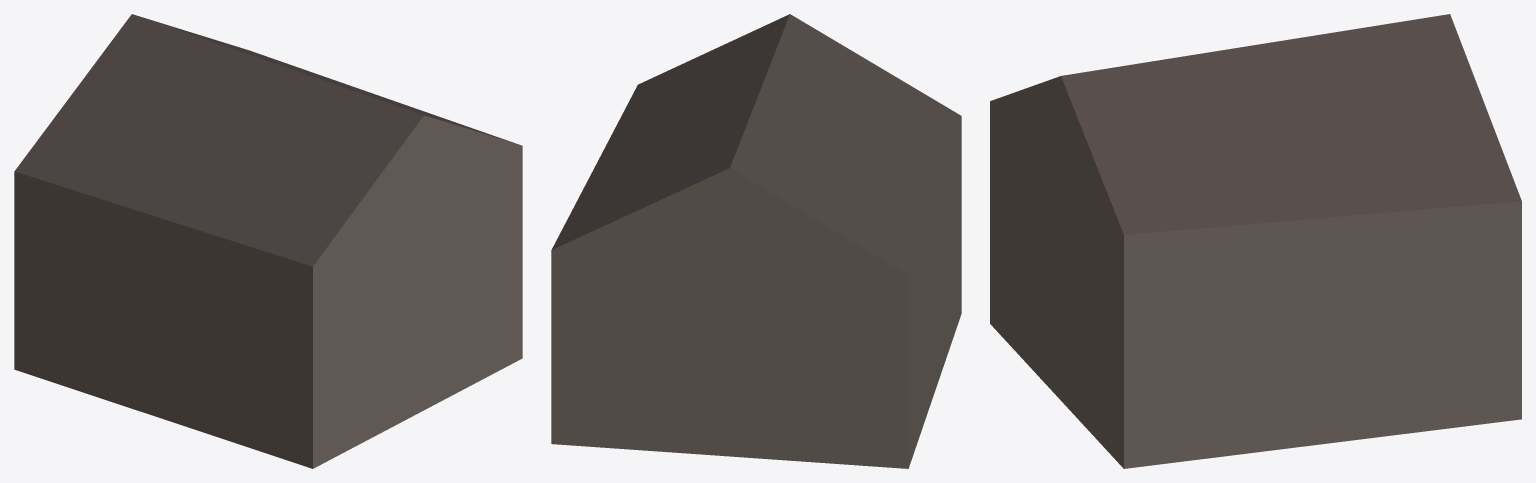
The picture shows the model from 3 angles, left to right: view 1: azimuth 30°, elevation 25°; view 2: azimuth 150°, elevation 25°; view 3: azimuth 270°, elevation 25°; orthographic projection. The views are drawn at different scales.
Parts seen in each view (by area): view 1: HP-w1198664282; view 2: HP-w1198664282; view 3: HP-w1198664282.
Boxes of the visible parts, x1,y1,x2,y2 form: HP-w1198664282: [14, 14, 522, 468]; HP-w1198664282: [551, 14, 961, 468]; HP-w1198664282: [990, 14, 1521, 468].
Bounding box in the file's own units: 12.43 × 8.93 × 13.26.
